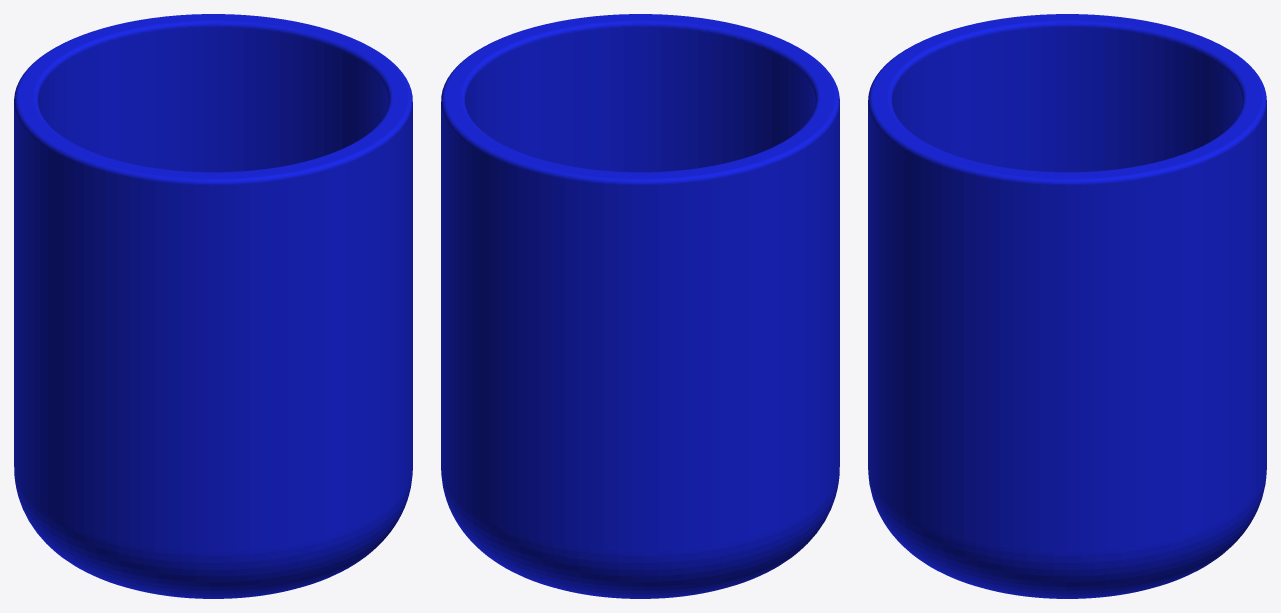
Rendered from bluecup.dae.
The picture shows the model from 3 angles, left to right: view 1: azimuth 30°, elevation 25°; view 2: azimuth 150°, elevation 25°; view 3: azimuth 270°, elevation 25°; orthographic projection.
Visible parts, largest first — view 1: cup; view 2: cup; view 3: cup.
Boxes of the visible parts, box(x1,y1,x2,y2) form: cup: box(14, 14, 412, 598); cup: box(441, 14, 839, 598); cup: box(868, 14, 1266, 598).
Size of the model in its own units: 85.3 by 85.3 by 105.
